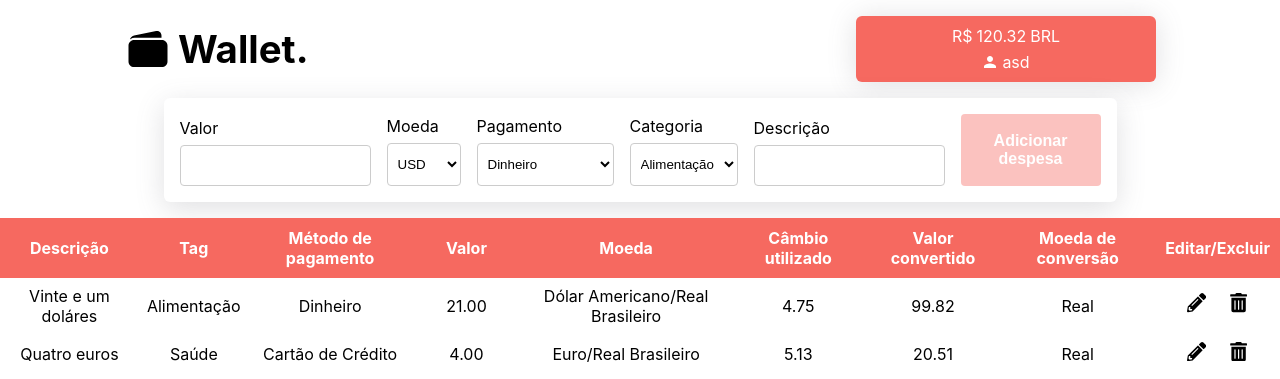
Test: Wallet page tests › Should delete an expense when "Excluir" button is clicked
expect the cell "Vinte e um doláres" is shown: met, box 0,278 -> 139,334
Click the 1st button with test id "delete-btn" at (1239, 306), box 1229,294 -> 1248,318
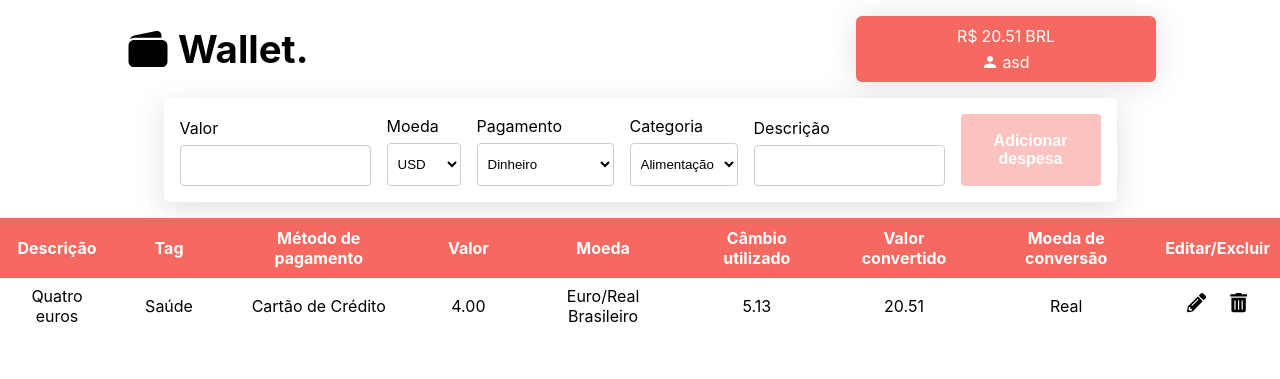
expect the cell "Vinte" is gone: met
